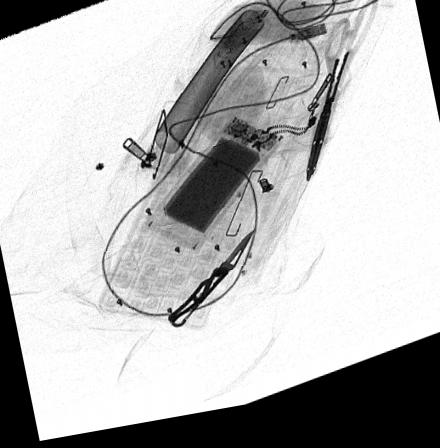Knife: (166, 234, 257, 335)
Powerbank: (147, 124, 283, 258)
Scissors: (303, 8, 377, 190)
